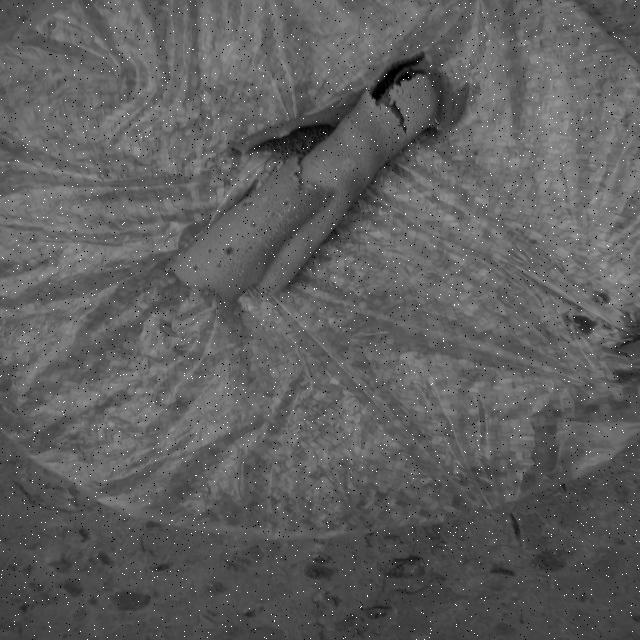injera_mold: (223, 245, 234, 258), (280, 198, 291, 208), (248, 220, 258, 230), (344, 160, 353, 170), (241, 202, 254, 208), (268, 210, 277, 218), (292, 170, 298, 182), (215, 262, 224, 269), (324, 190, 331, 198), (192, 265, 200, 270), (246, 245, 254, 250), (306, 183, 314, 188), (262, 197, 270, 202), (278, 229, 286, 234), (207, 248, 213, 254), (433, 118, 439, 124), (234, 268, 240, 272), (257, 262, 262, 266), (294, 214, 298, 219), (436, 125, 440, 130), (273, 229, 277, 234), (375, 150, 379, 155), (293, 206, 296, 212), (265, 244, 269, 248), (286, 218, 290, 222), (286, 209, 291, 212), (280, 213, 282, 219), (270, 237, 274, 240), (241, 269, 244, 273), (270, 251, 273, 255), (239, 273, 241, 276)
